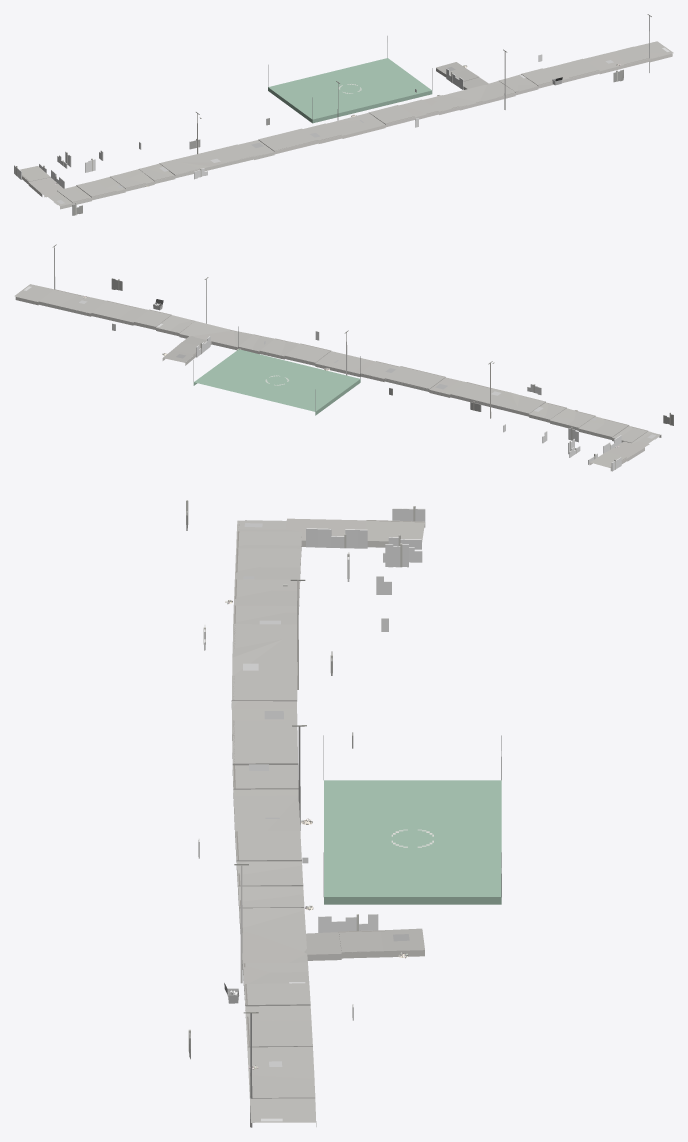
3 views of the same model, one above another, from view 1: azimuth 30°, elevation 25°; view 2: azimuth 150°, elevation 25°; view 3: azimuth 270°, elevation 25° (orthographic). The views are drawn at different scales.
Visible parts, largest first — view 1: V_27_22; view 2: V_27_22; view 3: V_27_22.
Boxes of the visible parts, left/top/right/bottom form: V_27_22: left=14, top=14, right=673, bottom=215; V_27_22: left=14, top=244, right=673, bottom=471; V_27_22: left=186, top=500, right=501, bottom=1127.
Size of the model in its own units: 145 by 13.37 by 31.97.
